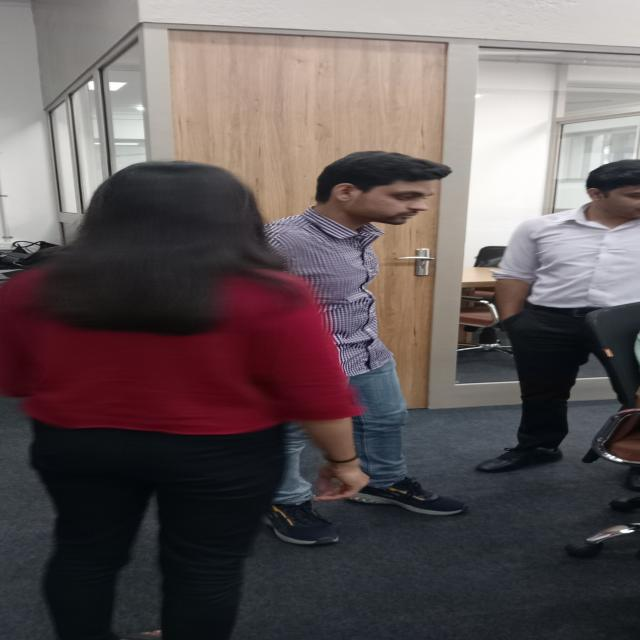unsafe: (9, 158, 364, 640), (283, 150, 467, 544), (488, 156, 640, 474)
